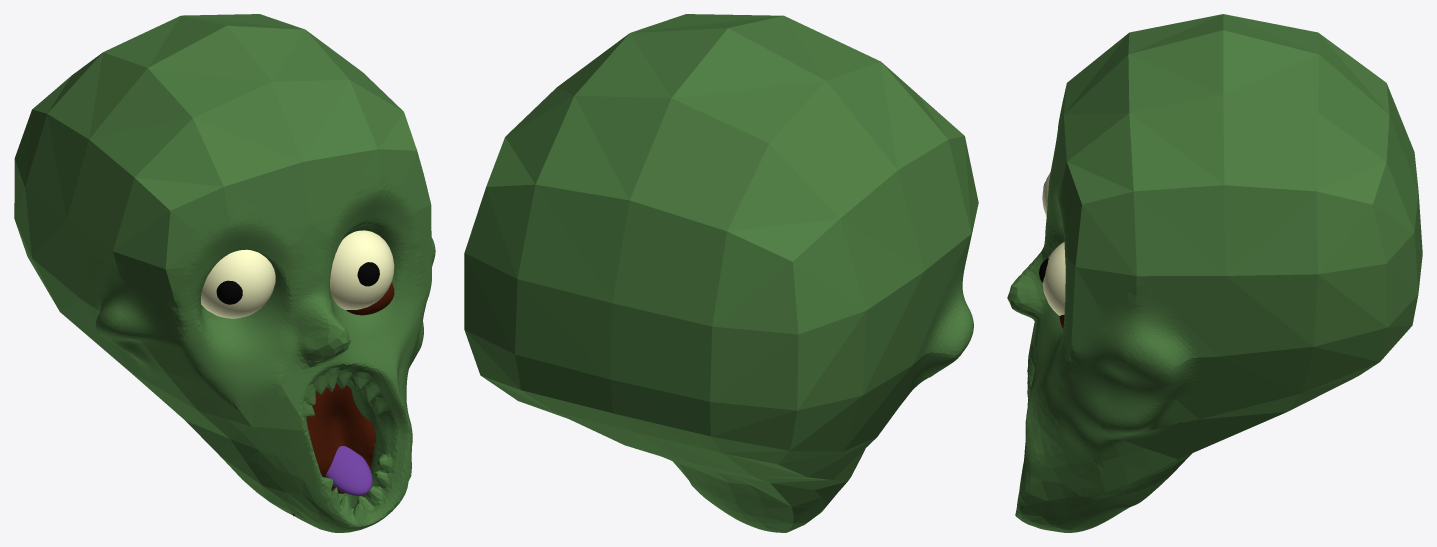
Rendered from zombieeeeJoin.fbx.
The picture shows the model from 3 angles, left to right: view 1: azimuth 30°, elevation 25°; view 2: azimuth 150°, elevation 25°; view 3: azimuth 270°, elevation 25°; orthographic projection. The views are drawn at different scales.
Parts seen in each view (by area): view 1: Sphere; view 2: Sphere; view 3: Sphere.
Part boxes in pixels (x1=…): Sphere: x1=14, y1=14, x2=435, y2=532; Sphere: x1=464, y1=14, x2=978, y2=532; Sphere: x1=1007, y1=14, x2=1422, y2=532.
Size of the model in its own units: 199 by 265 by 208.
